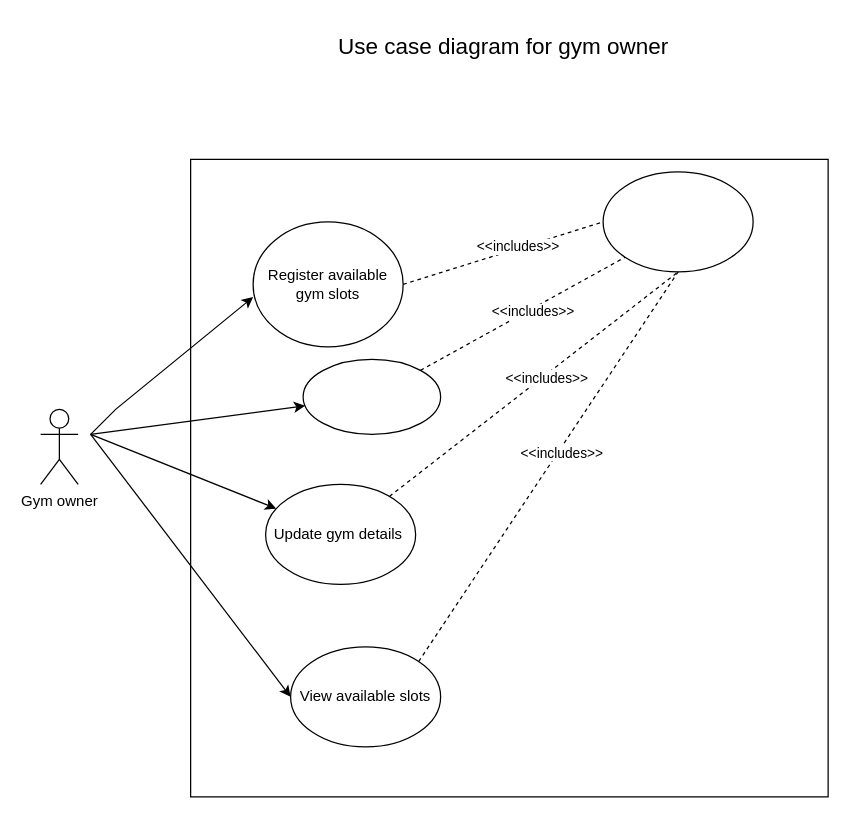
The diagram is 850 pixels wide and 819 high, and some of its shapes have lost their labels. The box of each missing label's shape, as (x1, y1, x2, y2) in pixels:
Register Gym center: (302, 358, 441, 434)
Verification for credentials: (602, 171, 753, 272)
